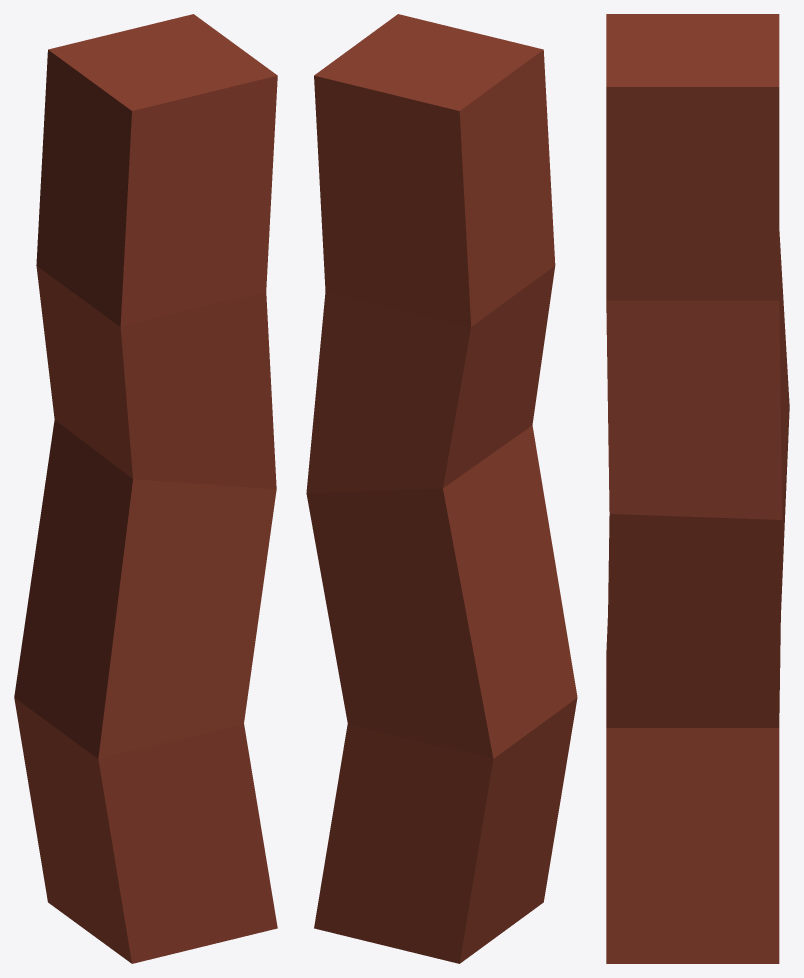
Rendered from wood_4a.fbx.
The picture shows the model from 3 angles, left to right: view 1: azimuth 30°, elevation 25°; view 2: azimuth 150°, elevation 25°; view 3: azimuth 270°, elevation 25°; orthographic projection. The views are drawn at different scales.
Parts seen in each view (by area): view 1: wood_4a; view 2: wood_4a; view 3: wood_4a.
Boxes of the visible parts, box(x1,y1,x2,y2) form: wood_4a: box(14, 14, 277, 963); wood_4a: box(306, 14, 577, 963); wood_4a: box(606, 14, 789, 963).
Bounding box in the file's own units: 47.19 × 207 × 39.3.
